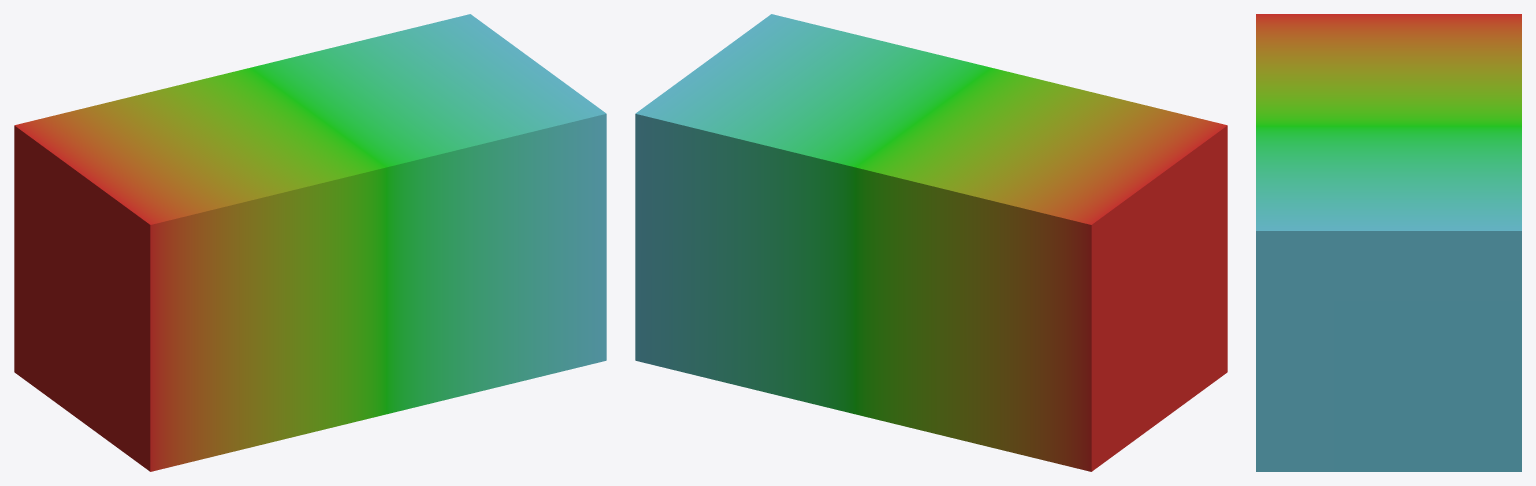
File: cube-colors.glb
3 views of the same model, side by side, from view 1: azimuth 30°, elevation 25°; view 2: azimuth 150°, elevation 25°; view 3: azimuth 270°, elevation 25° (orthographic). The views are drawn at different scales.
Visible parts, largest first — view 1: Cube; view 2: Cube; view 3: Cube.
Boxes of the visible parts, box(x1,y1,x2,y2) form: Cube: box(14, 14, 606, 471); Cube: box(635, 14, 1227, 471); Cube: box(1256, 14, 1521, 471).
Bounding box in the file's own units: 3.87 × 2 × 2.
